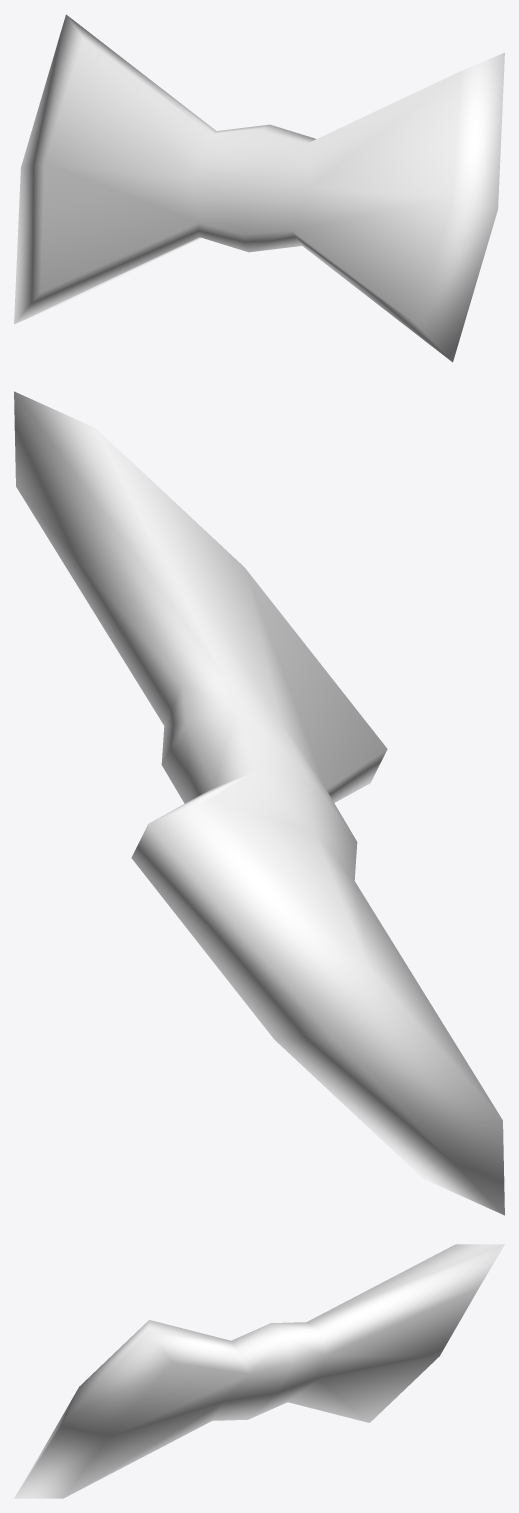
File: bow.fbx
3 renders of one model, top to bottom at view 1: azimuth 30°, elevation 25°; view 2: azimuth 150°, elevation 25°; view 3: azimuth 270°, elevation 25°, orthographic. The views are drawn at different scales.
Parts seen in each view (by area): view 1: Cube; view 2: Cube; view 3: Cube.
Part boxes in pixels (left/top/right/bottom): Cube: left=14, top=14, right=504, bottom=362; Cube: left=14, top=391, right=504, bottom=1215; Cube: left=14, top=1244, right=504, bottom=1498.
Bounding box in the file's own units: 33.85 × 22.68 × 39.36.
